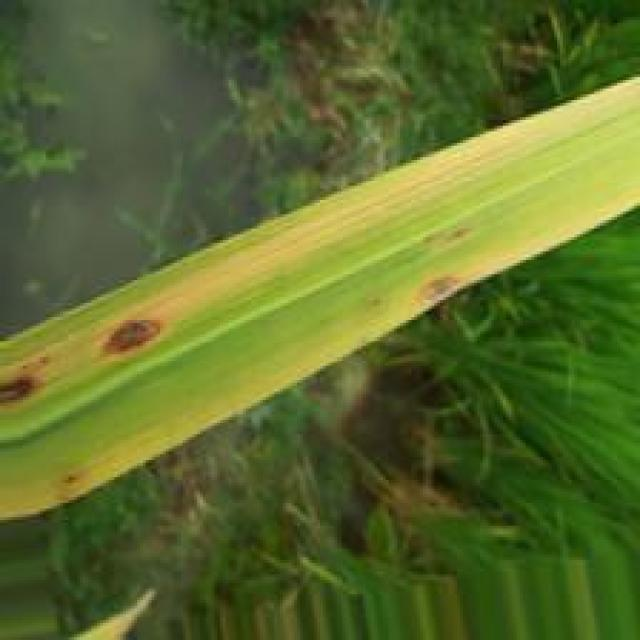Brown_Spot: (97, 314, 178, 355), (411, 272, 473, 310), (3, 359, 48, 411)
